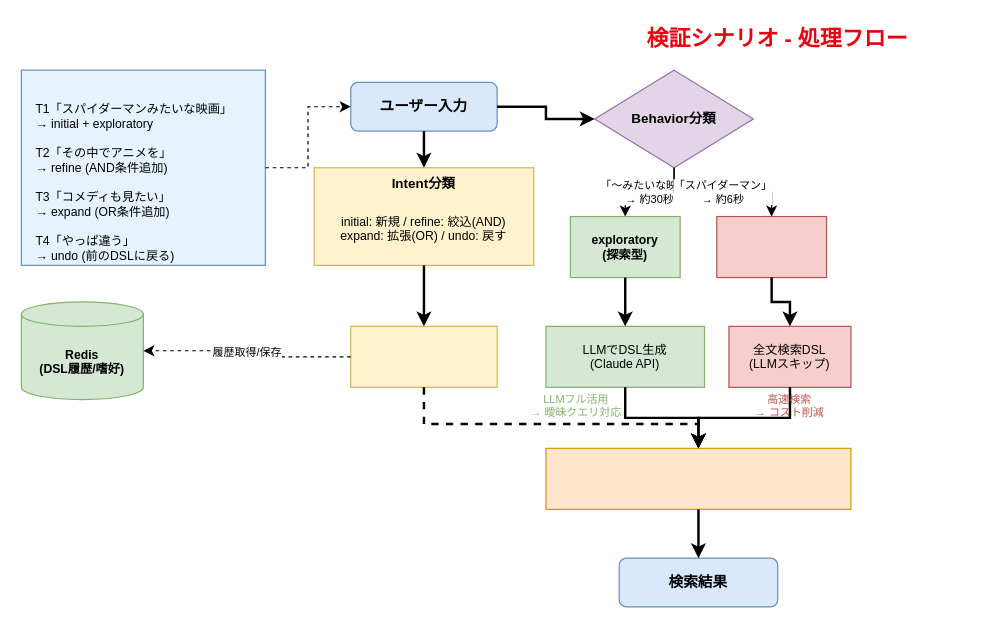
Some shapes in this 982 by 628 pixel diagram are drawn without their labels. The shapes that lost their labels are listed below. From the top down, each one's box as (x1, y1, x2, y2) in pixels, then its label:
(20, 69, 265, 265): 会話例
(716, 215, 827, 278): goal_oriented (目的型)
(350, 325, 497, 387): DSLマージ処理 (Intent に応じて)
(545, 447, 851, 509): Elasticsearch
